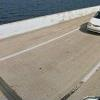Car: (78, 3, 100, 37)
